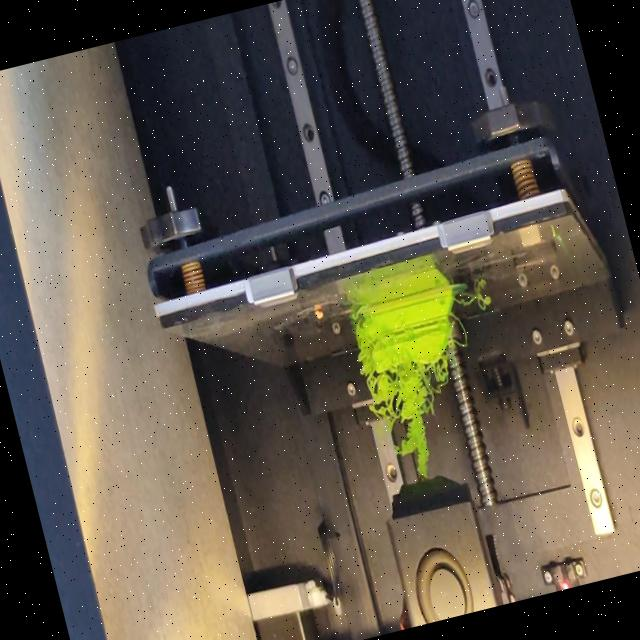spaghetti: (361, 350, 478, 490), (348, 304, 377, 374), (446, 306, 470, 352), (457, 289, 492, 314)
